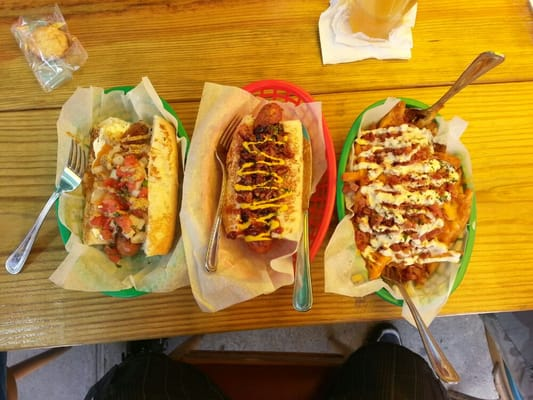burger: (4, 129, 87, 275)
soup: (82, 115, 180, 263), (216, 107, 307, 254)
